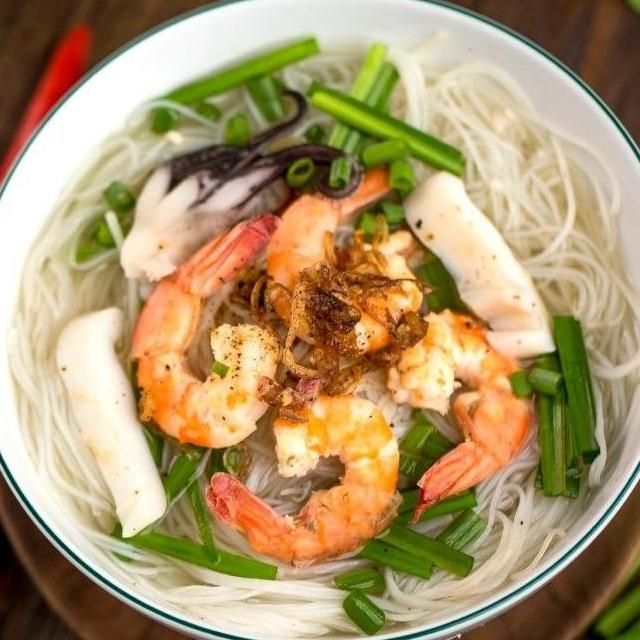banh hu tieu: (103, 412, 586, 640), (383, 27, 640, 330), (0, 76, 94, 462), (551, 264, 640, 505)
hu tieu: (0, 26, 640, 640)
muc: (112, 77, 370, 286), (394, 165, 560, 362), (46, 300, 174, 543)
tom: (122, 202, 290, 455), (194, 382, 414, 575), (260, 142, 434, 364), (378, 302, 546, 531)
